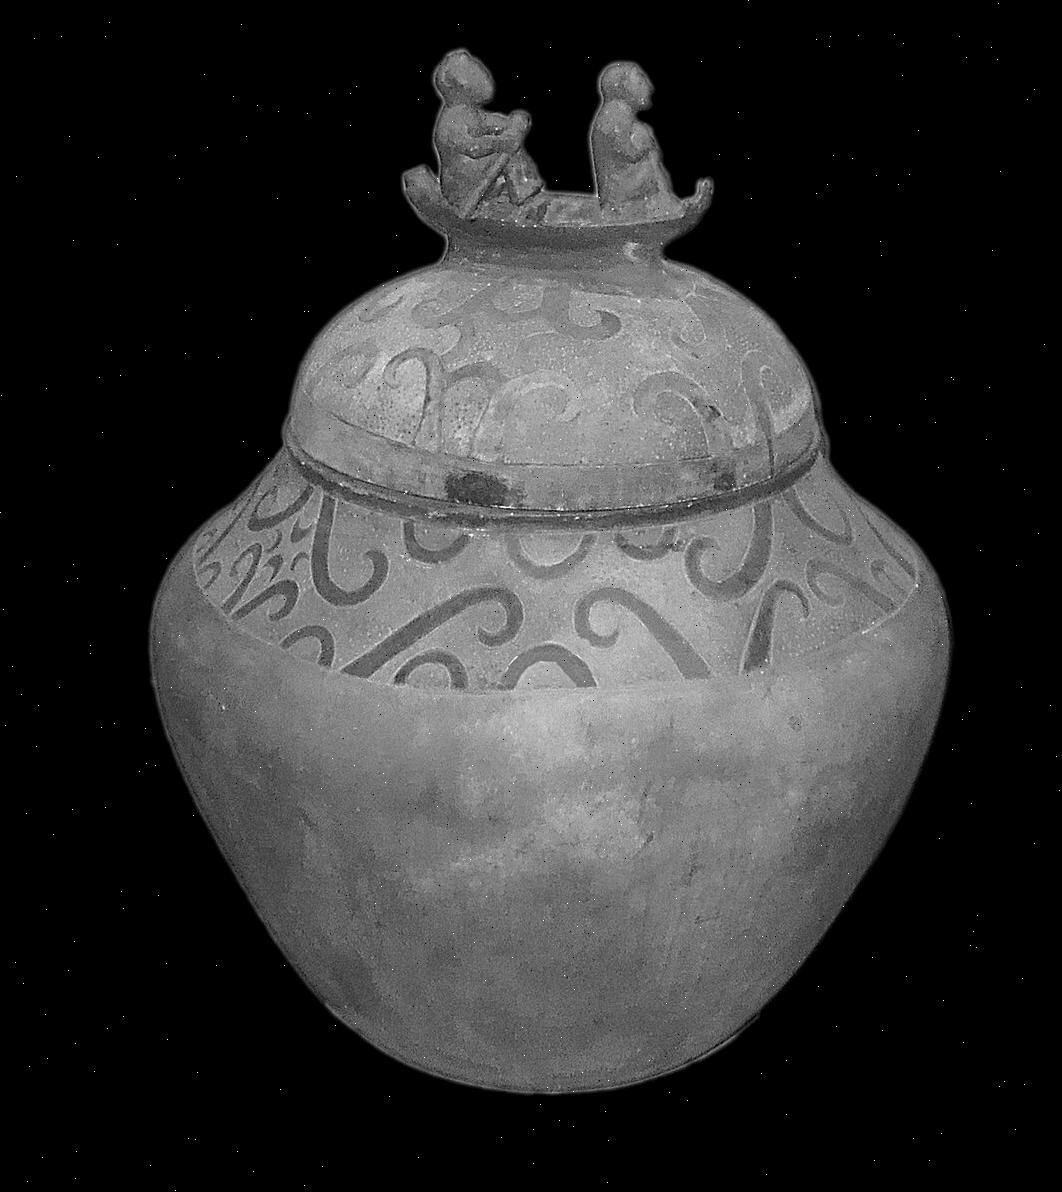manunggul_jar: (74, 42, 986, 1117)
